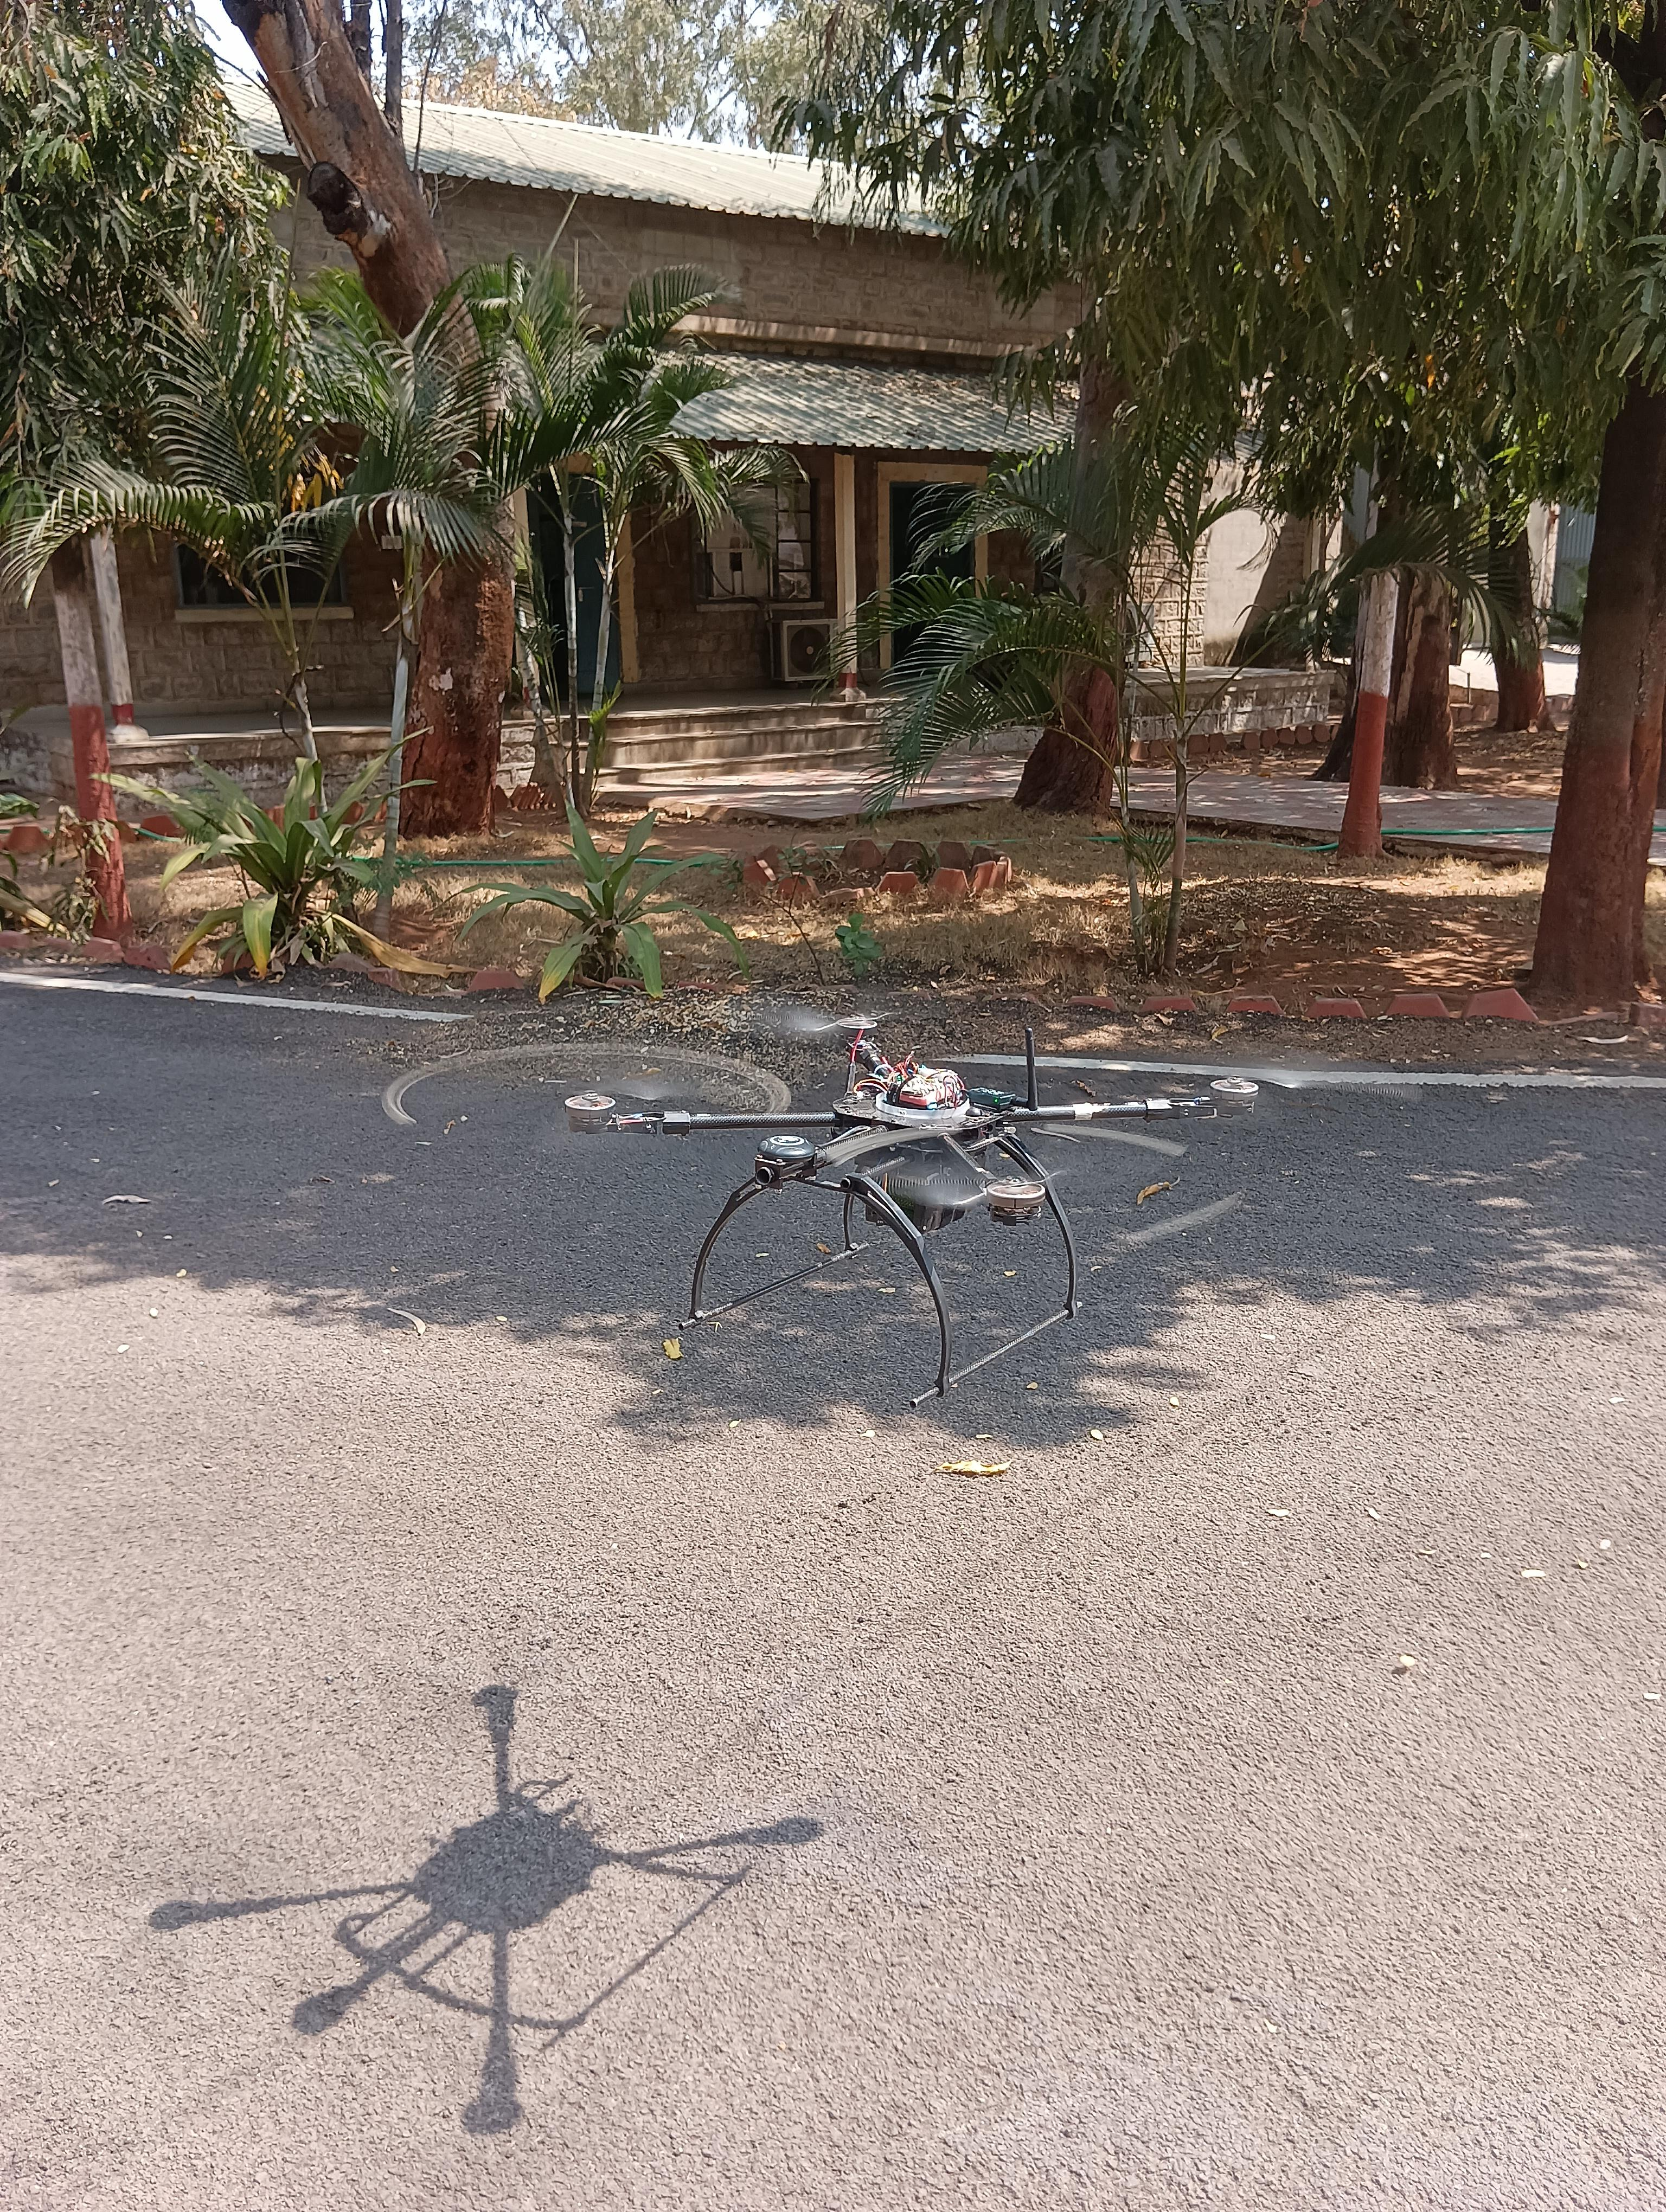drone: (478, 890, 1376, 1422)
